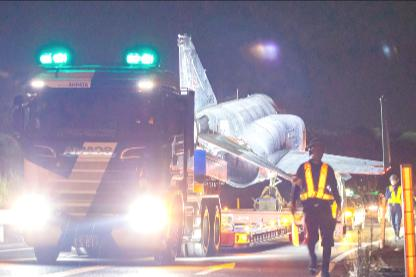F35: (178, 32, 392, 210)
